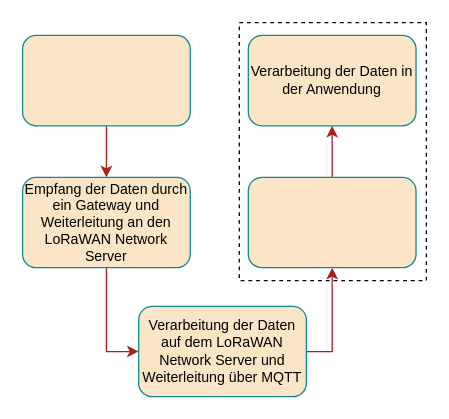
Image size: 449x419. Some labels were removed from this diagram. The centre of each missing label's shape, as x and y in pixels:
"Empfang der Daten durch die Anwendung" belongs at [331,222].
"Versenden eines Pakets durch den Endnode" belongs at [105,80].
